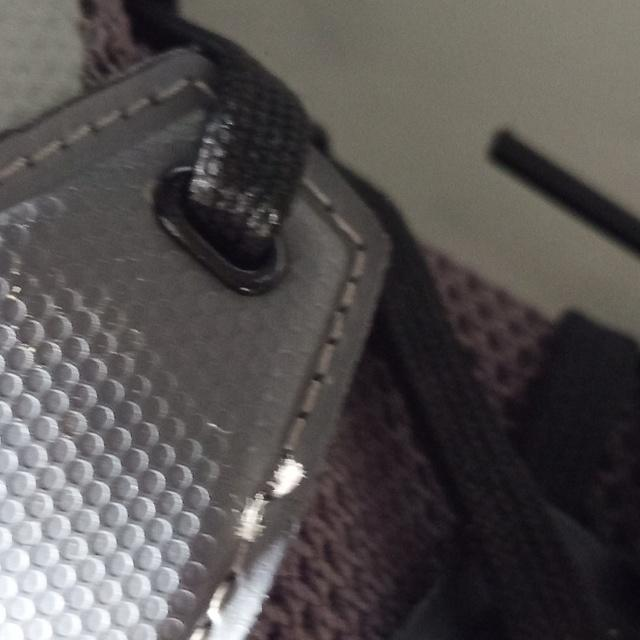broken-error: (227, 454, 312, 550)
